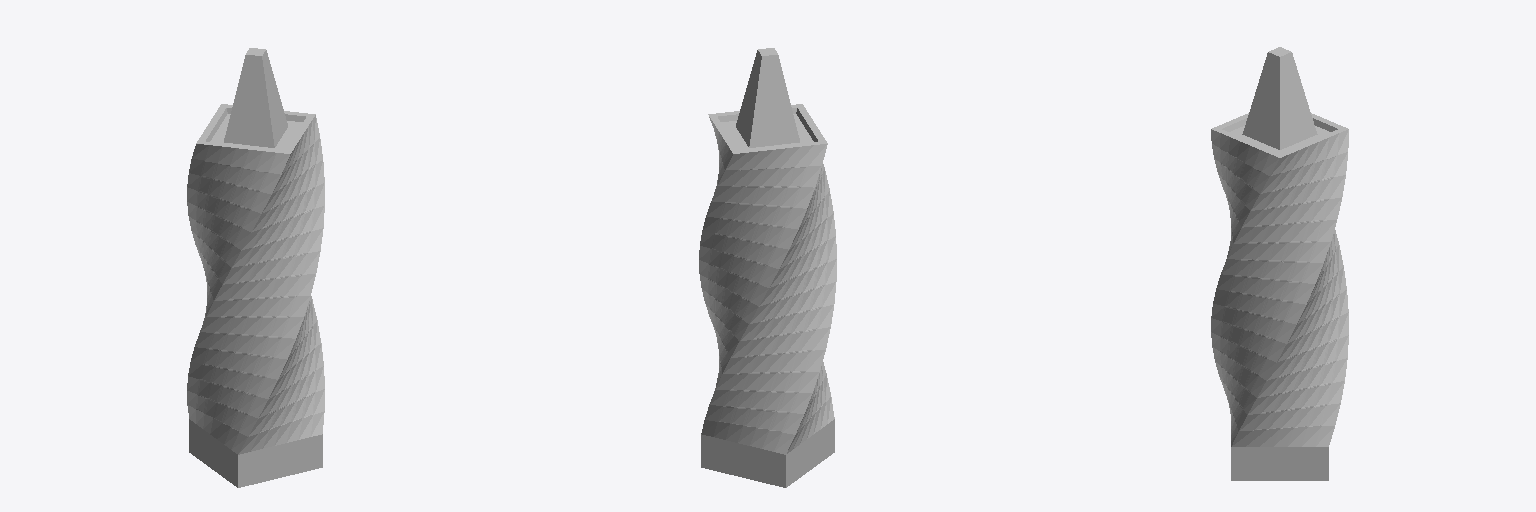
The model's file is building6.obj.
The picture shows the model from 3 angles: view 1: azimuth 30°, elevation 25°; view 2: azimuth 150°, elevation 25°; view 3: azimuth 270°, elevation 25°; orthographic projection.
Parts seen in each view (by area): view 1: Plane_Plane.001; view 2: Plane_Plane.001; view 3: Plane_Plane.001.
Boxes of the visible parts, box(x1,y1,x2,y2) form: Plane_Plane.001: box(187, 48, 324, 487); Plane_Plane.001: box(699, 48, 836, 487); Plane_Plane.001: box(1211, 47, 1348, 480).
Size of the model in its own units: 4.21 by 13.71 by 4.21.